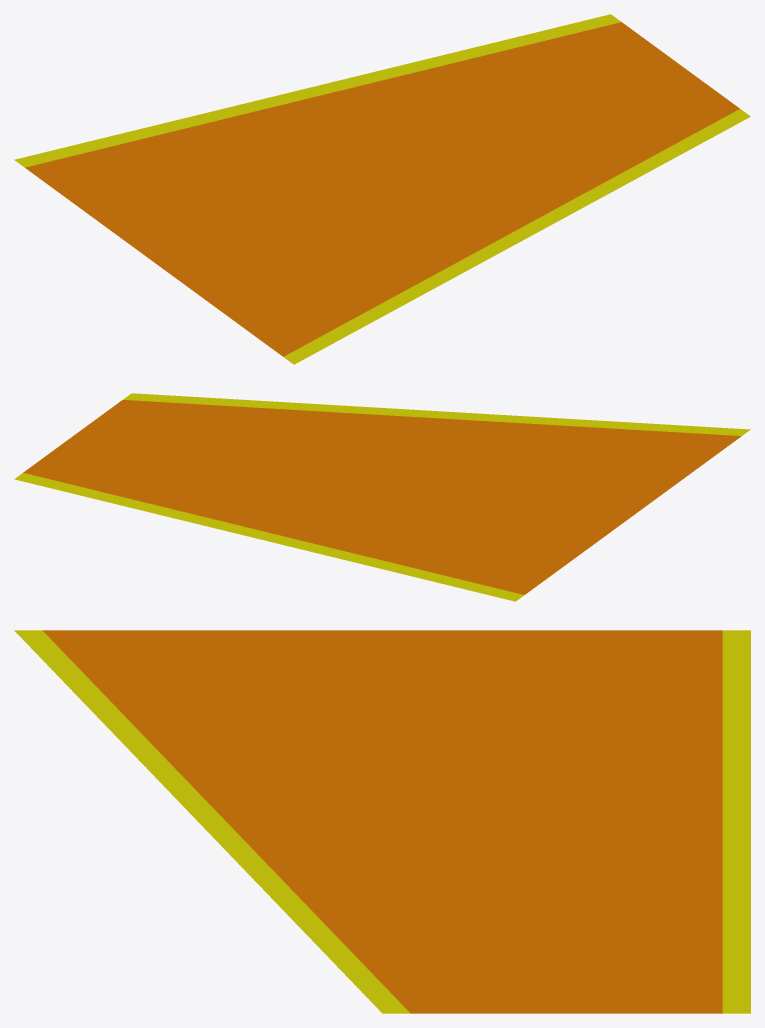
Rendered from Mesh_road_reduce.fbx.
The picture shows the model from 3 angles, top to bottom: view 1: azimuth 30°, elevation 25°; view 2: azimuth 150°, elevation 25°; view 3: azimuth 270°, elevation 25°; orthographic projection. The views are drawn at different scales.
Visible parts, largest first — view 1: Mesh_road_reduce; view 2: Mesh_road_reduce; view 3: Mesh_road_reduce.
Part boxes in pixels (x1,y1,x2,y2): Mesh_road_reduce: (14, 14, 750, 364); Mesh_road_reduce: (14, 393, 750, 601); Mesh_road_reduce: (14, 630, 750, 1013).
Size of what is drawn, in the model's own units: 1600 by 0.000212 by 1300.
